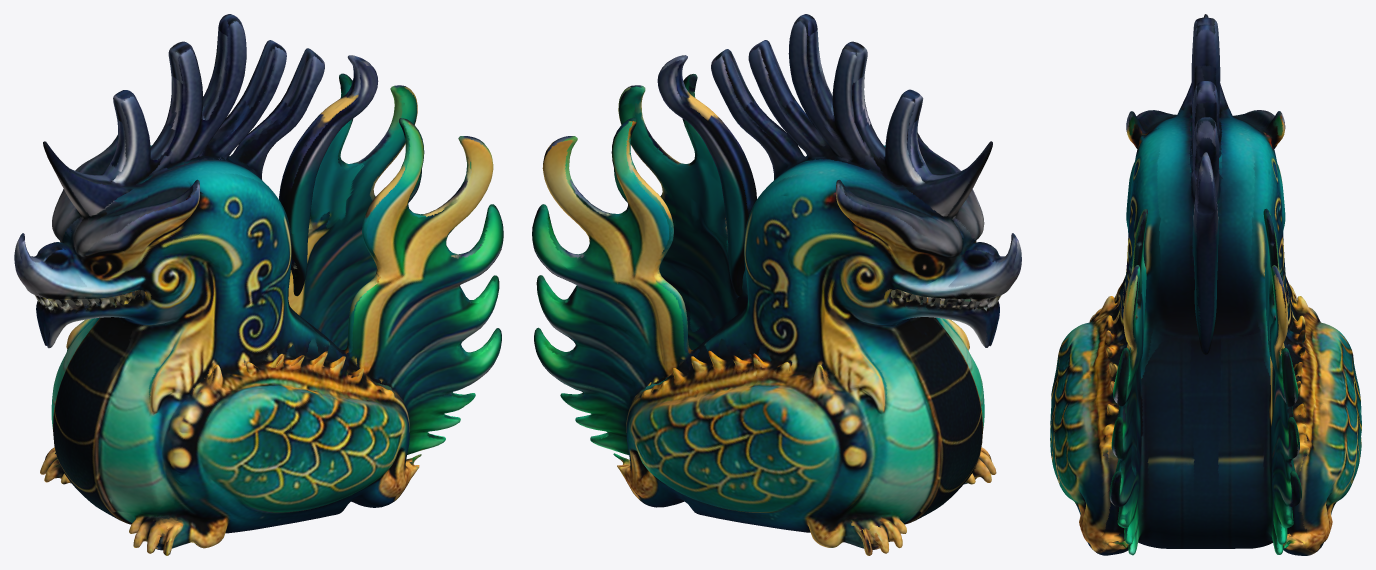
File: goodcase0304_69.glb
3 renders of one model, left to right at view 1: azimuth 30°, elevation 25°; view 2: azimuth 150°, elevation 25°; view 3: azimuth 270°, elevation 25°, orthographic.
Parts seen in each view (by area): view 1: object.001; view 2: object.001; view 3: object.001.
Part boxes in pixels (x1,y1,x2,y2): object.001: (14,14,503,555); object.001: (532,14,1021,555); object.001: (1050,14,1361,555).
Bounding box in the file's own units: 0.9269 × 0.9426 × 0.5588.
1 material, 1 textured.
